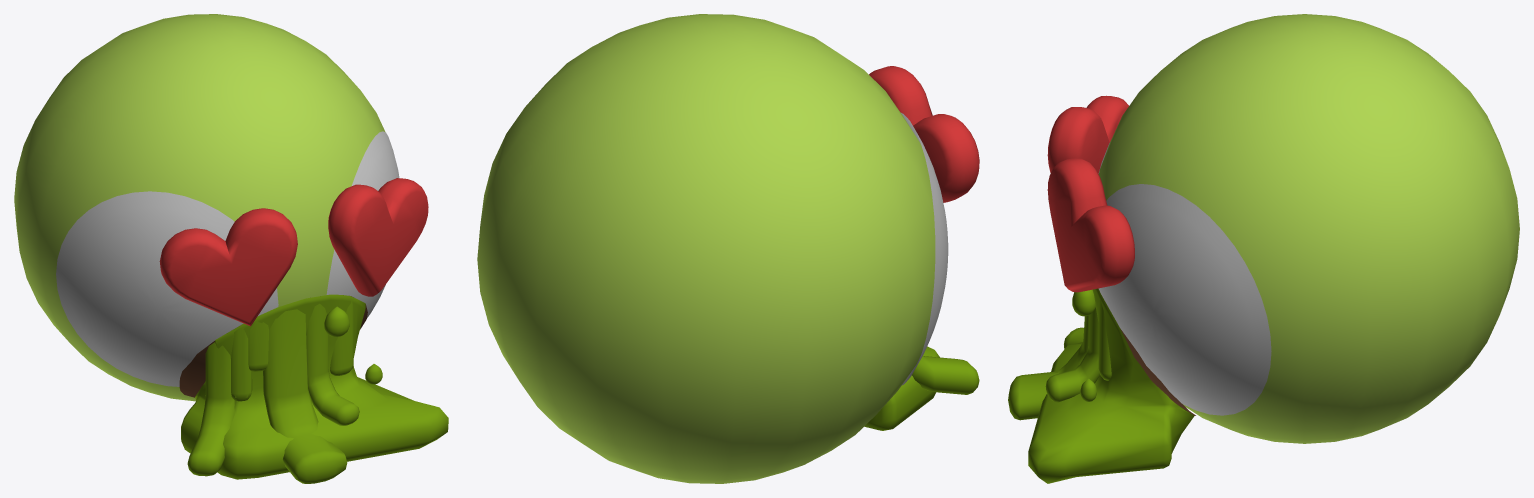
File: Emojis4.fbx
The picture shows the model from 3 angles, left to right: view 1: azimuth 30°, elevation 25°; view 2: azimuth 150°, elevation 25°; view 3: azimuth 270°, elevation 25°; orthographic projection. The views are drawn at different scales.
Parts seen in each view (by area): view 1: Emojis4; view 2: Emojis4; view 3: Emojis4.
Boxes of the visible parts, box(x1,y1,x2,y2) form: Emojis4: box(14, 14, 448, 483); Emojis4: box(477, 14, 979, 483); Emojis4: box(1008, 14, 1519, 483).
Size of the model in its own units: 200 by 201 by 238.
